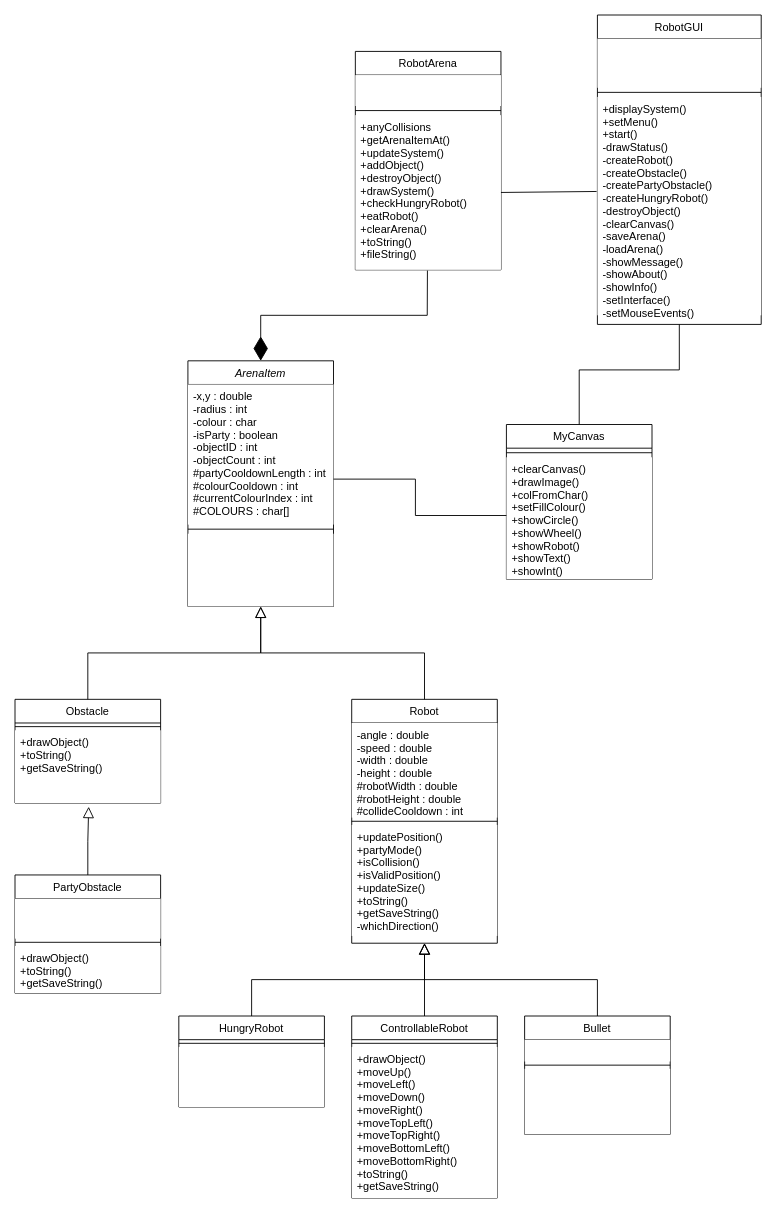
Some shapes in this 776 by 1213 pixel diagram are drawn without their labels. Here are the shapes that lost their labels. From the top down, the centre of each, then its label:
(x=679, y=62): -canvasSize: int -animationOn: boolean -selectedArenaItem : ArenaItem
(x=427, y=90): -robotArena : ArenaItem[]
(x=260, y=569): +drawObject() +isCollision() +isValidPosition() +partyMode() +compareSize()
(x=87, y=918): -colourIter : int -cooldownTimer : int
(x=597, y=1050): isDestroyed : boolean
(x=251, y=1076): +drawObject() +increaseSize() +toString() +getSaveString()
(x=597, y=1101): +drawObject() +updatePosition() +toString() +getSaveString()
